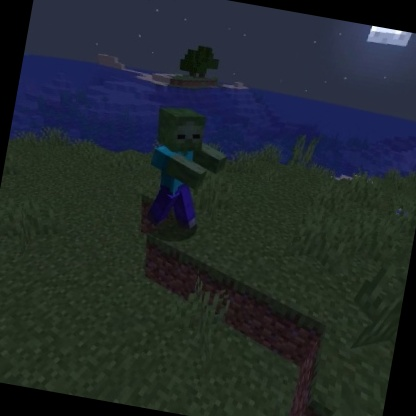zombie: (134, 100, 237, 240)
